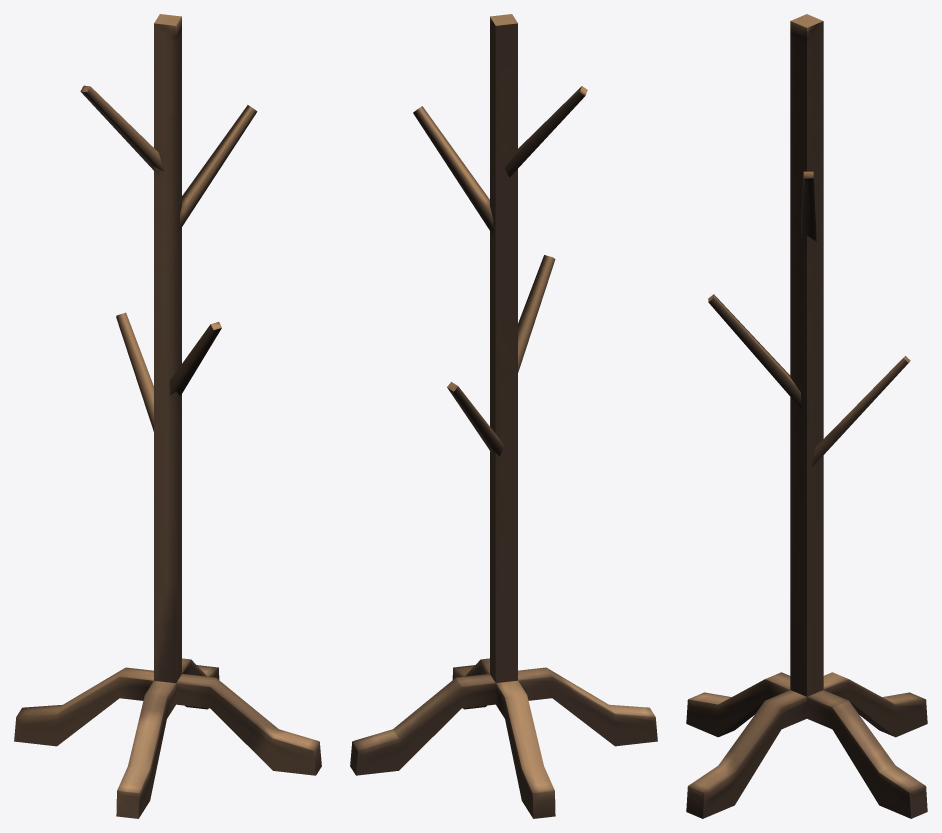
File: Tx_prop_coat rack_9.fbx
The picture shows the model from 3 angles, left to right: view 1: azimuth 30°, elevation 25°; view 2: azimuth 150°, elevation 25°; view 3: azimuth 270°, elevation 25°; orthographic projection.
Parts seen in each view (by area): view 1: Tx_prop_coat_rack_11; view 2: Tx_prop_coat_rack_11; view 3: Tx_prop_coat_rack_11.
Boxes of the visible parts, left/top/right/bottom form: Tx_prop_coat_rack_11: left=14, top=14, right=321, bottom=818; Tx_prop_coat_rack_11: left=350, top=14, right=657, bottom=818; Tx_prop_coat_rack_11: left=686, top=14, right=927, bottom=818.
Size of the model in its own units: 2.38 by 8.14 by 2.38.
